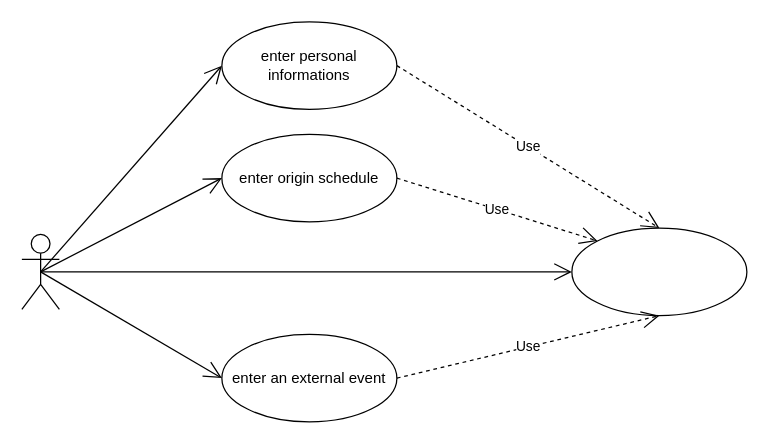
Image size: 769x444. Some labels were removed from this diagram. Here are the shapes that lost their labels. From the top down, the centre of each, then its label:
At point 40,271: "User".
At point 659,271: "reschedule".
